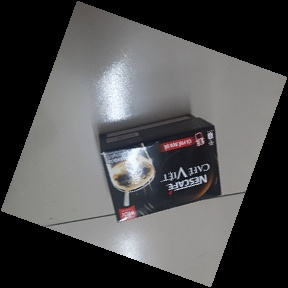CF Viet: (99, 113, 222, 224)
